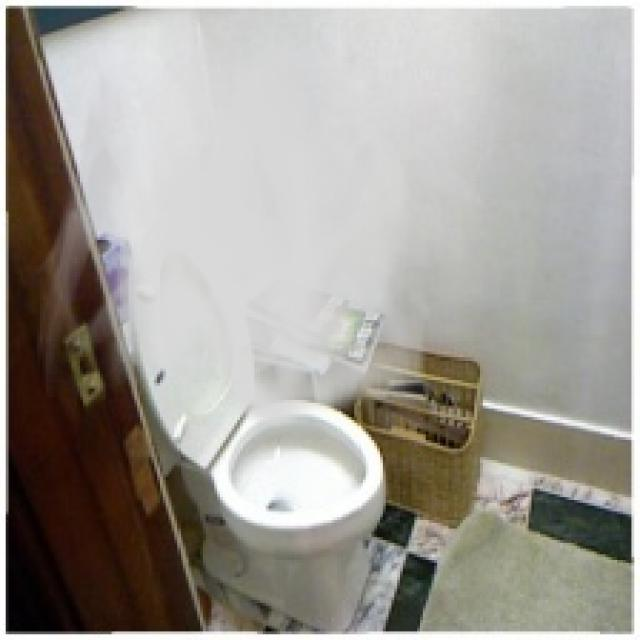smoke: (34, 23, 437, 431)
